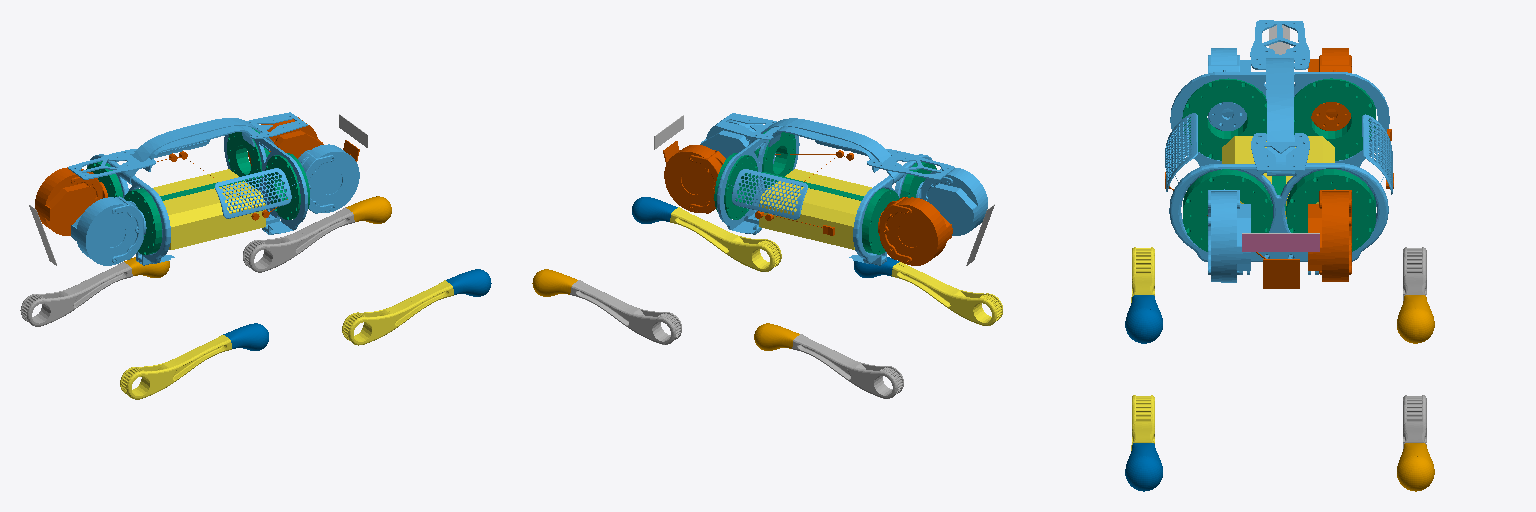
The robot description file, URDF, robot "ylo2":
<?xml version="1.0" ?>
<!-- =================================================================================== -->
<!-- |    This document was autogenerated by xacro from [local-path]/catkin_ws/src/quad-sdk/quad_simulator/ylo2_description/xacro/robot.xacro | -->
<!-- |    EDITING THIS FILE BY HAND IS NOT RECOMMENDED                                 | -->
<!-- =================================================================================== -->
<robot name="ylo2">
  <!-- Constants for robot dimensions -->
  <!-- simplified collision value for ylo2 -->
  <!-- body -->
  <!-- adjust center of robot -->
  <!-- leg params. -->
  <!-- kinematic value -->
  <!-- lower leg size, from lower leg axis to end foot -->
  <!-- leg offset from trunk center value -->
  <!-- joint limits -->
  <!-- dynamics inertial value 
            | ixx ixy ixz |
            | ixy iyy iyz |
            | ixz iyz izz | -->
  <!-- trunk -->
  <!-- 0.000194 -->
  <!-- hip (left front) -->
  <!-- upperleg -->
  <!-- lowerleg -->
  <!-- foot -->
  <link name="world"/>
  <joint name="floating_base_joint" type="floating">
    <origin rpy="0 0 0" xyz="0 0 0"/>
    <parent link="world"/>
    <child link="trunk"/>
  </joint>
  <link name="trunk">
    <visual>
      <origin rpy="0 0 0" xyz="0.0 0 0.0"/>
      <geometry>
        <mesh filename="package://ylo2_description/meshes/body/textured/ylo2_textured_body.dae" scale="1 1 1"/>
      </geometry>
      <material name="grey"/>
    </visual>
    <collision>
      <origin rpy="0 0 0" xyz="0.0 0 0.0"/>
      <geometry>
        <mesh filename="package://ylo2_description/meshes/body/covers_collision.stl" scale="1 1 1"/>
      </geometry>
    </collision>
    <inertial>
      <origin rpy="0 0 0" xyz="0.02 0.00194 0.0"/>
      <mass value="3.128"/>
      <inertia ixx="0.01585" ixy="-0.0001332" ixz="-0.0002403" iyy="0.04168" iyz="1.5299e-05" izz="0.04742"/>
    </inertial>
  </link>
  <link name="abad_motors">
    <visual>
      <origin rpy="0 0 0" xyz="0.0 0.0 0.0"/>
      <geometry>
        <mesh filename="package://ylo2_description/meshes/body/textured/ylo2_textured_abad_motors.dae" scale="1 1 1"/>
      </geometry>
      <material name="white"/>
    </visual>
  </link>
  <joint name="abad_motors_joint" type="fixed">
    <parent link="trunk"/>
    <child link="abad_motors"/>
    <origin rpy="0 0 0" xyz="0 0 0"/>
  </joint>
  <link name="battery">
    <visual>
      <origin rpy="0 0 0" xyz="0.0 0.0 0.0"/>
      <geometry>
        <mesh filename="package://ylo2_description/meshes/body/battery.stl" scale="1 1 1"/>
      </geometry>
      <material name="blue"/>
    </visual>
  </link>
  <joint name="battery_joint" type="fixed">
    <parent link="trunk"/>
    <child link="battery"/>
    <origin rpy="0 0 0" xyz="0 0 0"/>
  </joint>
  <link name="covers">
    <visual>
      <origin rpy="0 0 0" xyz="0.0 0.0 0.0"/>
      <geometry>
        <mesh filename="package://ylo2_description/meshes/body/textured/ylo2_textured_cover.dae" scale="1 1 1"/>
      </geometry>
      <material name="orange"/>
    </visual>
  </link>
  <joint name="covers_joint" type="fixed">
    <parent link="trunk"/>
    <child link="covers"/>
    <origin rpy="0 0 0" xyz="0 0 0"/>
  </joint>
  <link name="accessories">
    <visual>
      <origin rpy="0 0 0" xyz="0.0 0.0 0.0"/>
      <geometry>
        <mesh filename="package://ylo2_description/meshes/body/textured/accessories.dae" scale="1 1 1"/>
      </geometry>
      <material name="blue"/>
    </visual>
  </link>
  <joint name="accessories_joint" type="fixed">
    <parent link="trunk"/>
    <child link="accessories"/>
    <origin rpy="0 0 0" xyz="0 0 0"/>
  </joint>
  <link name="D435">
    <visual>
      <origin rpy="0 0 0" xyz="0.0 0.004 0.0"/>
      <geometry>
        <mesh filename="package://ylo2_description/meshes/body/textured/ylo2_d435_textured.dae" scale="1 1 1"/>
      </geometry>
      <material name="black"/>
    </visual>
  </link>
  <joint name="D435_joint" type="fixed">
    <parent link="trunk"/>
    <child link="D435"/>
    <origin rpy="0 0 0" xyz="0 0 0"/>
  </joint>
  <link name="T265">
    <visual>
      <origin rpy="0 0 0" xyz="0.001 0.0025 0.0"/>
      <geometry>
        <mesh filename="package://ylo2_description/meshes/body/textured/ylo2_t265_textured.dae" scale="1 1.06 1.04"/>
      </geometry>
      <material name="black"/>
    </visual>
  </link>
  <joint name="T265_joint" type="fixed">
    <parent link="trunk"/>
    <child link="T265"/>
    <origin rpy="0 0 0" xyz="0 0 0"/>
  </joint>
  <joint name="imu_joint" type="fixed">
    <parent link="trunk"/>
    <child link="trunk_imu"/>
    <origin rpy="0 0 0" xyz="0 0 0"/>
  </joint>
  <link name="trunk_imu">
    <inertial>
      <mass value="0.001"/>
      <origin rpy="0 0 0" xyz="0 0 0"/>
      <inertia ixx="0.0001" ixy="0" ixz="0" iyy="0.000001" iyz="0" izz="0.0001"/>
    </inertial>
    <visual>
      <origin rpy="0 0 0" xyz="0 0 0"/>
      <geometry>
        <box size="0.001 0.001 0.001"/>
      </geometry>
      <material name="red"/>
    </visual>
    <collision>
      <origin rpy="0 0 0" xyz="0 0 0"/>
      <geometry>
        <box size=".001 .001 .001"/>
      </geometry>
    </collision>
  </link>
  <joint name="rf_haa_joint" type="revolute">
    <origin rpy="0 0 0" xyz="0.17450000000000002 -0.0512 0.023"/>
    <parent link="trunk"/>
    <child link="rf_hip"/>
    <axis xyz="1 0 0"/>
    <dynamics damping="0" friction="0"/>
    <limit effort="14" lower="-1.2217304763960306" upper="1.2217304763960306" velocity="20"/>
  </joint>
  <link name="rf_hip">
    <!-- AB AD -->
    <visual>
      <origin rpy="3.141592653589793 0 0" xyz="-0.06 0 0"/>
      <geometry>
        <mesh filename="package://ylo2_description/meshes/leg/textured/ylo2texturedhip.dae" scale="1 1 1"/>
      </geometry>
      <material name="white"/>
    </visual>
    <inertial>
      <origin rpy="0 0 0" xyz="-0.011957 -0.000306 0.000366"/>
      <mass value="0.599"/>
      <inertia ixx="0.0004159" ixy="-4.253e-06" ixz="3.68e-07" iyy="0.0007108" iyz="-2.15e-07" izz="0.0004707"/>
    </inertial>
  </link>
  <joint name="rf_hfe_joint" type="continuous">
    <origin rpy="0 0 0" xyz="0.0 -0.092 0"/>
    <parent link="rf_hip"/>
    <child link="rf_upperleg"/>
    <axis xyz="0 1 0"/>
    <dynamics damping="0" friction="0"/>
    <limit effort="14" velocity="20"/>
  </joint>
  <link name="rf_upperleg">
    <visual>
      <origin rpy="0 0 0" xyz="0 0.0732 0"/>
      <!-- positionnement des 4 axes en meme temps -->
      <geometry>
        <mesh filename="package://ylo2_description/meshes/leg/textured/ylo2_textured_upper_leg.dae" scale="1 -1 1"/>
      </geometry>
      <material name="grey"/>
    </visual>
    <collision>
      <origin rpy="0 0 0" xyz="0 0.0732 0"/>
      <!-- positionnement des 4 axes en meme temps -->
      <geometry>
        <mesh filename="package://ylo2_description/meshes/leg/fl_upper_leg_collision.stl" scale="1 -1 1"/>
      </geometry>
      <material name="red"/>
    </collision>
    <inertial>
      <origin rpy="0 0 0" xyz="-0.000684 0.010999 -0.035487"/>
      <mass value="1.08"/>
      <inertia ixx="0.005666803" ixy="-3.597e-06" ixz="0.000491446" iyy="0.005847229" iyz="-1.0086e-05" izz="0.000369811"/>
    </inertial>
  </link>
  <joint name="rf_kfe_joint" type="revolute">
    <origin rpy="0 0 0" xyz="0 -0.001 -0.215427"/>
    <parent link="rf_upperleg"/>
    <child link="rf_lowerleg"/>
    <axis xyz="0 1 0"/>
    <dynamics damping="0" friction="0"/>
    <limit effort="14" lower="-2.775073510670984" upper="-0.6457718232379019" velocity="15"/>
  </joint>
  <link name="rf_lowerleg">
    <visual>
      <origin rpy="0 0 0" xyz="0 -0.001 0"/>
      <geometry>
        <mesh filename="package://ylo2_description/meshes/leg/textured/lower_leg.dae" scale="1 1 1"/>
      </geometry>
      <material name="white"/>
    </visual>
    <collision>
      <origin rpy="0 0 0" xyz="0 -0.001 0"/>
      <geometry>
        <mesh filename="package://ylo2_description/meshes/leg/fl_lower_leg_collision.stl" scale="1 -1 1"/>
      </geometry>
      <material name="red"/>
    </collision>
    <inertial>
      <origin rpy="0 0 0" xyz="0.000252 0.000194 -0.05192"/>
      <mass value="0.175"/>
      <inertia ixx="0.0004583" ixy="-9.5e-08" ixz="2.6512e-05" iyy="0.0004675" iyz="2.77e-07" izz="2.9145e-05"/>
    </inertial>
  </link>
  <joint name="rf_foot_fixed" type="fixed">
    <origin rpy="0 0 0" xyz="0 0 -0.229819"/>
    <parent link="rf_lowerleg"/>
    <child link="rf_foot"/>
  </joint>
  <link name="rf_foot">
    <inertial>
      <origin rpy="0 0 0" xyz="-0.007246 9.2e-05 -0.038267"/>
      <mass value="0.078"/>
      <inertia ixx="2.9902e-05" ixy="-2.2e-08" ixz="-4.427e-06" iyy="3.0583e-05" iyz="-9.9e-08" izz="1.4025e-05"/>
    </inertial>
    <visual>
      <origin rpy="0 0 0" xyz="0.009 0.0 0.069"/>
      <geometry>
        <mesh filename="package://ylo2_description/meshes/leg/fl_foot.dae" scale="1.0 1.0 1.0"/>
      </geometry>
      <material name="orange"/>
    </visual>
    <collision>
      <origin rpy="0 0 0" xyz="0.009 0.0 0.069"/>
      <geometry>
        <mesh filename="package://ylo2_description/meshes/leg/fl_foot_collision.stl" scale="1.0 1.0 1.0"/>
      </geometry>
      <material name="red"/>
    </collision>
  </link>
  <joint name="lf_haa_joint" type="revolute">
    <origin rpy="0 0 0" xyz="0.17450000000000002 0.0632 0.023"/>
    <parent link="trunk"/>
    <child link="lf_hip"/>
    <axis xyz="1 0 0"/>
    <dynamics damping="0" friction="0"/>
    <limit effort="14" lower="-1.2217304763960306" upper="1.2217304763960306" velocity="20"/>
  </joint>
  <link name="lf_hip">
    <!-- AB AD -->
    <visual>
      <origin rpy="0 0 0" xyz="-0.06 0 0"/>
      <geometry>
        <mesh filename="package://ylo2_description/meshes/leg/textured/ylo2texturedhip.dae" scale="1 1 1"/>
      </geometry>
      <material name="white"/>
    </visual>
    <inertial>
      <origin rpy="0 0 0" xyz="-0.011957 0.000306 0.000366"/>
      <mass value="0.599"/>
      <inertia ixx="0.0004159" ixy="4.253e-06" ixz="3.68e-07" iyy="0.0007108" iyz="2.15e-07" izz="0.0004707"/>
    </inertial>
  </link>
  <joint name="lf_hfe_joint" type="continuous">
    <origin rpy="0 0 0" xyz="0.0 0.092 0"/>
    <parent link="lf_hip"/>
    <child link="lf_upperleg"/>
    <axis xyz="0 1 0"/>
    <dynamics damping="0" friction="0"/>
    <limit effort="14" velocity="20"/>
  </joint>
  <link name="lf_upperleg">
    <visual>
      <origin rpy="0 0 0" xyz="0 -0.0732 0"/>
      <!-- positionnement des 4 axes en meme temps -->
      <geometry>
        <mesh filename="package://ylo2_description/meshes/leg/textured/ylo2_textured_upper_leg.dae" scale="1 1 1"/>
      </geometry>
      <material name="grey"/>
    </visual>
    <collision>
      <origin rpy="0 0 0" xyz="0 -0.0732 0"/>
      <!-- positionnement des 4 axes en meme temps -->
      <geometry>
        <mesh filename="package://ylo2_description/meshes/leg/fl_upper_leg_collision.stl" scale="1 1 1"/>
      </geometry>
      <material name="red"/>
    </collision>
    <inertial>
      <origin rpy="0 0 0" xyz="-0.000684 -0.010999 -0.035487"/>
      <mass value="1.08"/>
      <inertia ixx="0.005666803" ixy="3.597e-06" ixz="0.000491446" iyy="0.005847229" iyz="1.0086e-05" izz="0.000369811"/>
    </inertial>
  </link>
  <joint name="lf_kfe_joint" type="revolute">
    <origin rpy="0 0 0" xyz="0 -0.001 -0.215427"/>
    <parent link="lf_upperleg"/>
    <child link="lf_lowerleg"/>
    <axis xyz="0 1 0"/>
    <dynamics damping="0" friction="0"/>
    <limit effort="14" lower="-2.775073510670984" upper="-0.6457718232379019" velocity="15"/>
  </joint>
  <link name="lf_lowerleg">
    <visual>
      <origin rpy="0 0 0" xyz="0 0.001 0"/>
      <geometry>
        <mesh filename="package://ylo2_description/meshes/leg/textured/lower_leg.dae" scale="1 1 1"/>
      </geometry>
      <material name="white"/>
    </visual>
    <collision>
      <origin rpy="0 0 0" xyz="0 0.001 0"/>
      <geometry>
        <mesh filename="package://ylo2_description/meshes/leg/fl_lower_leg_collision.stl" scale="1 -1 1"/>
      </geometry>
      <material name="red"/>
    </collision>
    <inertial>
      <origin rpy="0 0 0" xyz="0.000252 0.000194 -0.05192"/>
      <mass value="0.175"/>
      <inertia ixx="0.0004583" ixy="-9.5e-08" ixz="2.6512e-05" iyy="0.0004675" iyz="2.77e-07" izz="2.9145e-05"/>
    </inertial>
  </link>
  <joint name="lf_foot_fixed" type="fixed">
    <origin rpy="0 0 0" xyz="0 0 -0.229819"/>
    <parent link="lf_lowerleg"/>
    <child link="lf_foot"/>
  </joint>
  <link name="lf_foot">
    <inertial>
      <origin rpy="0 0 0" xyz="-0.007246 9.2e-05 -0.038267"/>
      <mass value="0.078"/>
      <inertia ixx="2.9902e-05" ixy="-2.2e-08" ixz="-4.427e-06" iyy="3.0583e-05" iyz="-9.9e-08" izz="1.4025e-05"/>
    </inertial>
    <visual>
      <origin rpy="0 0 0" xyz="0.009 0.002 0.069"/>
      <geometry>
        <mesh filename="package://ylo2_description/meshes/leg/fl_foot.dae" scale="1.0 1.0 1.0"/>
      </geometry>
      <material name="orange"/>
    </visual>
    <collision>
      <origin rpy="0 0 0" xyz="0.009 0.002 0.069"/>
      <geometry>
        <mesh filename="package://ylo2_description/meshes/leg/fl_foot_collision.stl" scale="1.0 1.0 1.0"/>
      </geometry>
      <material name="red"/>
    </collision>
  </link>
  <joint name="rh_haa_joint" type="revolute">
    <origin rpy="0 0 0" xyz="-0.2125 -0.0512 0.023"/>
    <parent link="trunk"/>
    <child link="rh_hip"/>
    <axis xyz="1 0 0"/>
    <dynamics damping="0" friction="0"/>
    <limit effort="14" lower="-1.2217304763960306" upper="1.2217304763960306" velocity="20"/>
  </joint>
  <link name="rh_hip">
    <!-- AB AD -->
    <visual>
      <origin rpy="3.141592653589793 3.141592653589793 0" xyz="0.06 0 0"/>
      <geometry>
        <mesh filename="package://ylo2_description/meshes/leg/textured/ylo2texturedhip.dae" scale="1 1 1"/>
      </geometry>
      <material name="white"/>
    </visual>
    <inertial>
      <origin rpy="0 0 0" xyz="0.011957 -0.000306 0.000366"/>
      <mass value="0.599"/>
      <inertia ixx="0.0004159" ixy="4.253e-06" ixz="-3.68e-07" iyy="0.0007108" iyz="-2.15e-07" izz="0.0004707"/>
    </inertial>
  </link>
  <joint name="rh_hfe_joint" type="continuous">
    <origin rpy="0 0 0" xyz="0.0 -0.092 0"/>
    <parent link="rh_hip"/>
    <child link="rh_upperleg"/>
    <axis xyz="0 1 0"/>
    <dynamics damping="0" friction="0"/>
    <limit effort="14" velocity="20"/>
  </joint>
  <link name="rh_upperleg">
    <visual>
      <origin rpy="0 0 0" xyz="0 0.0732 0"/>
      <!-- positionnement des 4 axes en meme temps -->
      <geometry>
        <mesh filename="package://ylo2_description/meshes/leg/textured/ylo2_textured_upper_leg.dae" scale="1 -1 1"/>
      </geometry>
      <material name="grey"/>
    </visual>
    <collision>
      <origin rpy="0 0 0" xyz="0 0.0732 0"/>
      <!-- positionnement des 4 axes en meme temps -->
      <geometry>
        <mesh filename="package://ylo2_description/meshes/leg/fl_upper_leg_collision.stl" scale="1 -1 1"/>
      </geometry>
      <material name="red"/>
    </collision>
    <inertial>
      <origin rpy="0 0 0" xyz="-0.000684 0.010999 -0.035487"/>
      <mass value="1.08"/>
      <inertia ixx="0.005666803" ixy="-3.597e-06" ixz="0.000491446" iyy="0.005847229" iyz="-1.0086e-05" izz="0.000369811"/>
    </inertial>
  </link>
  <joint name="rh_kfe_joint" type="revolute">
    <origin rpy="0 0 0" xyz="0 -0.001 -0.215427"/>
    <parent link="rh_upperleg"/>
    <child link="rh_lowerleg"/>
    <axis xyz="0 1 0"/>
    <dynamics damping="0" friction="0"/>
    <limit effort="14" lower="-2.775073510670984" upper="-0.6457718232379019" velocity="15"/>
  </joint>
  <link name="rh_lowerleg">
    <visual>
      <origin rpy="0 0 0" xyz="0 -0.001 0"/>
      <geometry>
        <mesh filename="package://ylo2_description/meshes/leg/textured/lower_leg.dae" scale="1 1 1"/>
      </geometry>
      <material name="white"/>
    </visual>
    <collision>
      <origin rpy="0 0 0" xyz="0 -0.001 0"/>
      <geometry>
        <mesh filename="package://ylo2_description/meshes/leg/fl_lower_leg_collision.stl" scale="1 -1 1"/>
      </geometry>
      <material name="red"/>
    </collision>
    <inertial>
      <origin rpy="0 0 0" xyz="0.000252 0.000194 -0.05192"/>
      <mass value="0.175"/>
      <inertia ixx="0.0004583" ixy="-9.5e-08" ixz="2.6512e-05" iyy="0.0004675" iyz="2.77e-07" izz="2.9145e-05"/>
    </inertial>
  </link>
  <joint name="rh_foot_fixed" type="fixed">
    <origin rpy="0 0 0" xyz="0 0 -0.229819"/>
    <parent link="rh_lowerleg"/>
    <child link="rh_foot"/>
  </joint>
  <link name="rh_foot">
    <inertial>
      <origin rpy="0 0 0" xyz="-0.007246 9.2e-05 -0.038267"/>
      <mass value="0.078"/>
      <inertia ixx="2.9902e-05" ixy="-2.2e-08" ixz="-4.427e-06" iyy="3.0583e-05" iyz="-9.9e-08" izz="1.4025e-05"/>
    </inertial>
    <visual>
      <origin rpy="0 0 0" xyz="0.009 0.0 0.069"/>
      <geometry>
        <mesh filename="package://ylo2_description/meshes/leg/fl_foot.dae" scale="1.0 1.0 1.0"/>
      </geometry>
      <material name="orange"/>
    </visual>
    <collision>
      <origin rpy="0 0 0" xyz="0.009 0.0 0.069"/>
      <geometry>
        <mesh filename="package://ylo2_description/meshes/leg/fl_foot_collision.stl" scale="1.0 1.0 1.0"/>
      </geometry>
      <material name="red"/>
    </collision>
  </link>
  <joint name="lh_haa_joint" type="revolute">
    <origin rpy="0 0 0" xyz="-0.2125 0.0632 0.023"/>
    <parent link="trunk"/>
    <child link="lh_hip"/>
    <axis xyz="1 0 0"/>
    <dynamics damping="0" friction="0"/>
    <limit effort="14" lower="-1.2217304763960306" upper="1.2217304763960306" velocity="20"/>
  </joint>
  <link name="lh_hip">
    <!-- AB AD -->
    <visual>
      <origin rpy="0 3.141592653589793 0" xyz="0.06 0 0"/>
      <geometry>
        <mesh filename="package://ylo2_description/meshes/leg/textured/ylo2texturedhip.dae" scale="1 1 1"/>
      </geometry>
      <material name="white"/>
    </visual>
    <inertial>
      <origin rpy="0 0 0" xyz="0.011957 0.000306 0.000366"/>
      <mass value="0.599"/>
      <inertia ixx="0.0004159" ixy="-4.253e-06" ixz="-3.68e-07" iyy="0.0007108" iyz="2.15e-07" izz="0.0004707"/>
    </inertial>
  </link>
  <joint name="lh_hfe_joint" type="continuous">
    <origin rpy="0 0 0" xyz="0.0 0.092 0"/>
    <parent link="lh_hip"/>
    <child link="lh_upperleg"/>
    <axis xyz="0 1 0"/>
    <dynamics damping="0" friction="0"/>
    <limit effort="14" velocity="20"/>
  </joint>
  <link name="lh_upperleg">
    <visual>
      <origin rpy="0 0 0" xyz="0 -0.0732 0"/>
      <!-- positionnement des 4 axes en meme temps -->
      <geometry>
        <mesh filename="package://ylo2_description/meshes/leg/textured/ylo2_textured_upper_leg.dae" scale="1 1 1"/>
      </geometry>
      <material name="grey"/>
    </visual>
    <collision>
      <origin rpy="0 0 0" xyz="0 -0.0732 0"/>
      <!-- positionnement des 4 axes en meme temps -->
      <geometry>
        <mesh filename="package://ylo2_description/meshes/leg/fl_upper_leg_collision.stl" scale="1 1 1"/>
      </geometry>
      <material name="red"/>
    </collision>
    <inertial>
      <origin rpy="0 0 0" xyz="-0.000684 -0.010999 -0.035487"/>
      <mass value="1.08"/>
      <inertia ixx="0.005666803" ixy="3.597e-06" ixz="0.000491446" iyy="0.005847229" iyz="1.0086e-05" izz="0.000369811"/>
    </inertial>
  </link>
  <joint name="lh_kfe_joint" type="revolute">
    <origin rpy="0 0 0" xyz="0 -0.001 -0.215427"/>
    <parent link="lh_upperleg"/>
    <child link="lh_lowerleg"/>
    <axis xyz="0 1 0"/>
    <dynamics damping="0" friction="0"/>
    <limit effort="14" lower="-2.775073510670984" upper="-0.6457718232379019" velocity="15"/>
  </joint>
  <link name="lh_lowerleg">
    <visual>
      <origin rpy="0 0 0" xyz="0 0.001 0"/>
      <geometry>
        <mesh filename="package://ylo2_description/meshes/leg/textured/lower_leg.dae" scale="1 1 1"/>
      </geometry>
      <material name="white"/>
    </visual>
    <collision>
      <origin rpy="0 0 0" xyz="0 0.001 0"/>
      <geometry>
        <mesh filename="package://ylo2_description/meshes/leg/fl_lower_leg_collision.stl" scale="1 -1 1"/>
      </geometry>
      <material name="red"/>
    </collision>
    <inertial>
      <origin rpy="0 0 0" xyz="0.000252 0.000194 -0.05192"/>
      <mass value="0.175"/>
      <inertia ixx="0.0004583" ixy="-9.5e-08" ixz="2.6512e-05" iyy="0.0004675" iyz="2.77e-07" izz="2.9145e-05"/>
    </inertial>
  </link>
  <joint name="lh_foot_fixed" type="fixed">
    <origin rpy="0 0 0" xyz="0 0 -0.229819"/>
    <parent link="lh_lowerleg"/>
    <child link="lh_foot"/>
  </joint>
  <link name="lh_foot">
    <inertial>
      <origin rpy="0 0 0" xyz="-0.007246 9.2e-05 -0.038267"/>
      <mass value="0.078"/>
      <inertia ixx="2.9902e-05" ixy="-2.2e-08" ixz="-4.427e-06" iyy="3.0583e-05" iyz="-9.9e-08" izz="1.4025e-05"/>
    </inertial>
    <visual>
      <origin rpy="0 0 0" xyz="0.009 0.002 0.069"/>
      <geometry>
        <mesh filename="package://ylo2_description/meshes/leg/fl_foot.dae" scale="1.0 1.0 1.0"/>
      </geometry>
      <material name="orange"/>
    </visual>
    <collision>
      <origin rpy="0 0 0" xyz="0.009 0.002 0.069"/>
      <geometry>
        <mesh filename="package://ylo2_description/meshes/leg/fl_foot_collision.stl" scale="1.0 1.0 1.0"/>
      </geometry>
      <material name="red"/>
    </collision>
  </link>
</robot>

--- Facts derived from the render (not from the file) ---
The picture shows the robot from 3 angles, left to right: view 1: azimuth 30°, elevation 25°; view 2: azimuth 150°, elevation 25°; view 3: azimuth 270°, elevation 25°; orthographic projection.
Model ylo2 with 25 links and 24 joints (8 revolute, 4 continuous, 11 fixed, 1 floating), rooted at world, posed joints at zero except 4 at the middle of their limits (rf_kfe_joint = -1.71, lf_kfe_joint = -1.71, rh_kfe_joint = -1.71, lh_kfe_joint = -1.71).
Visible links, largest first — view 1: trunk, battery, abad_motors, rh_hip, rf_hip, lh_hip, rf_lowerleg, rh_lowerleg, lh_lowerleg, lf_lowerleg, lf_hip, rf_foot (+3 smaller); view 2: trunk, abad_motors, battery, lh_hip, lf_hip, rh_hip, lh_lowerleg, rf_lowerleg, lf_lowerleg, rh_lowerleg, rf_hip, lh_foot (+4 smaller); view 3: trunk, abad_motors, lf_hip, rf_hip, lh_hip, rh_hip, battery, D435, rh_foot, lh_foot, rf_foot, lf_foot (+5 smaller).
Link boxes in pixels (box(x1,y1,x2,y2)): trunk: box(68, 112, 307, 265); battery: box(153, 169, 265, 249); abad_motors: box(86, 128, 309, 254); rh_hip: box(71, 196, 146, 265); rf_hip: box(298, 144, 359, 213); lh_hip: box(35, 167, 107, 235); rf_lowerleg: box(342, 280, 453, 345); rh_lowerleg: box(120, 335, 231, 399); lh_lowerleg: box(20, 262, 132, 326); lf_lowerleg: box(243, 207, 354, 272); lf_hip: box(248, 117, 323, 165); rf_foot: box(446, 269, 491, 296); trunk: box(715, 113, 954, 265); abad_motors: box(714, 129, 936, 254); battery: box(759, 169, 871, 249); lh_hip: box(878, 197, 952, 265); lf_hip: box(664, 145, 725, 213); rh_hip: box(916, 168, 987, 235); lh_lowerleg: box(792, 334, 903, 398); rf_lowerleg: box(670, 207, 781, 271); lf_lowerleg: box(570, 280, 681, 344); rh_lowerleg: box(891, 262, 1002, 325); rf_hip: box(700, 118, 775, 163); lh_foot: box(754, 323, 799, 350); trunk: box(1165, 20, 1392, 274); abad_motors: box(1182, 78, 1375, 251); lf_hip: box(1308, 189, 1351, 281); rf_hip: box(1208, 189, 1250, 282); lh_hip: box(1308, 48, 1351, 130); rh_hip: box(1208, 48, 1250, 130); battery: box(1222, 136, 1334, 218); D435: box(1242, 233, 1319, 251); rh_foot: box(1125, 295, 1162, 343); lh_foot: box(1397, 295, 1434, 343); rf_foot: box(1125, 443, 1162, 491); lf_foot: box(1397, 443, 1434, 491).
Bounding box of the posed robot: 0.7105 × 0.3425 × 0.3404 m (x, y, z).
Meshes: 11 distinct files referenced, 18 mesh visuals loaded (1 binary STL, 8 Collada DAE); not drawn: 5 (reference not matched to a file when rendering).
